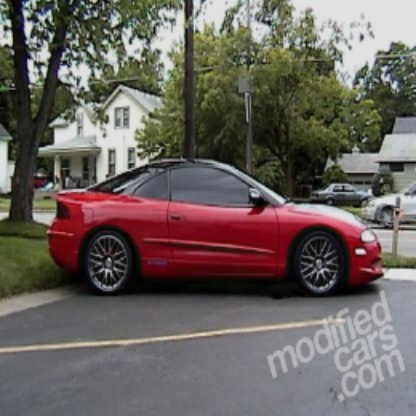Vehicle: (45, 155, 385, 300)
